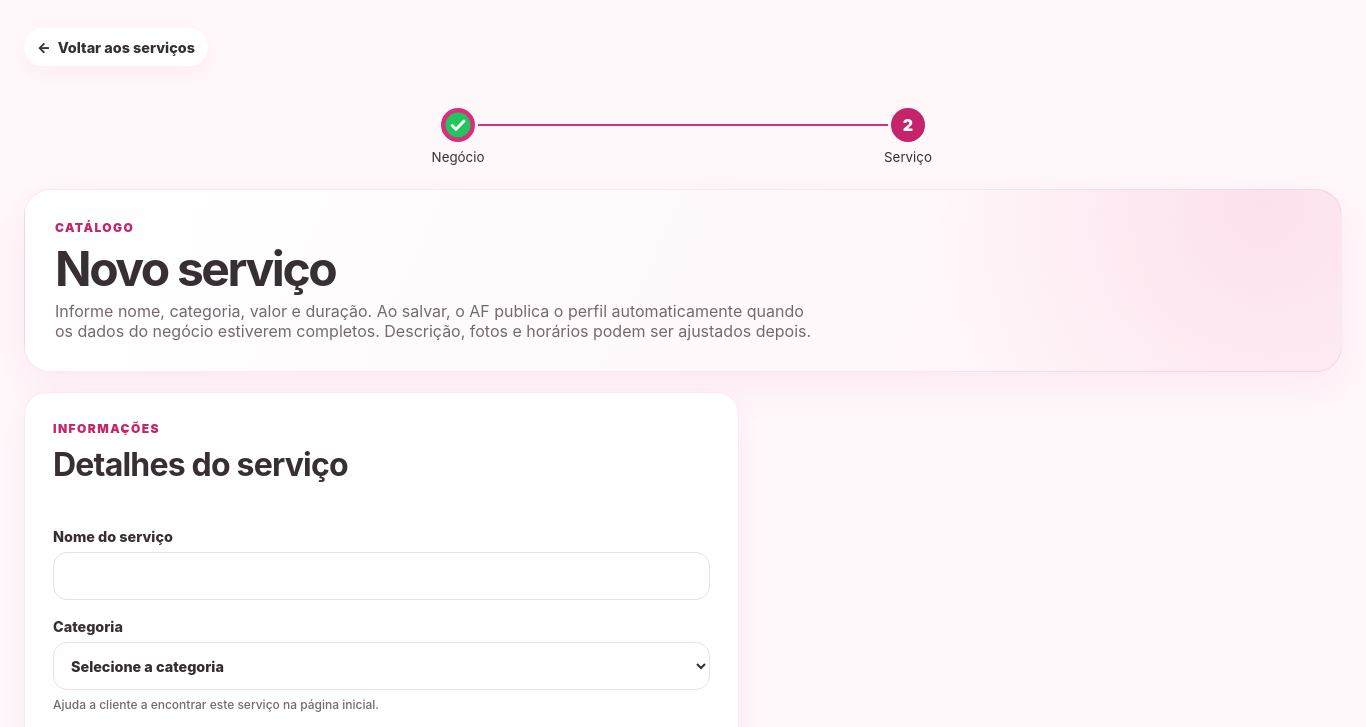
Scenario: cadastro recuperável depois de recarregar › recupera somente por GET com storage indisponível e onboarding=true
Type "Manicure" into the field labelled "Nome do serviço".
click(382, 576); type("Manicure")  # box [53,552,710,600]
(page scrolled)
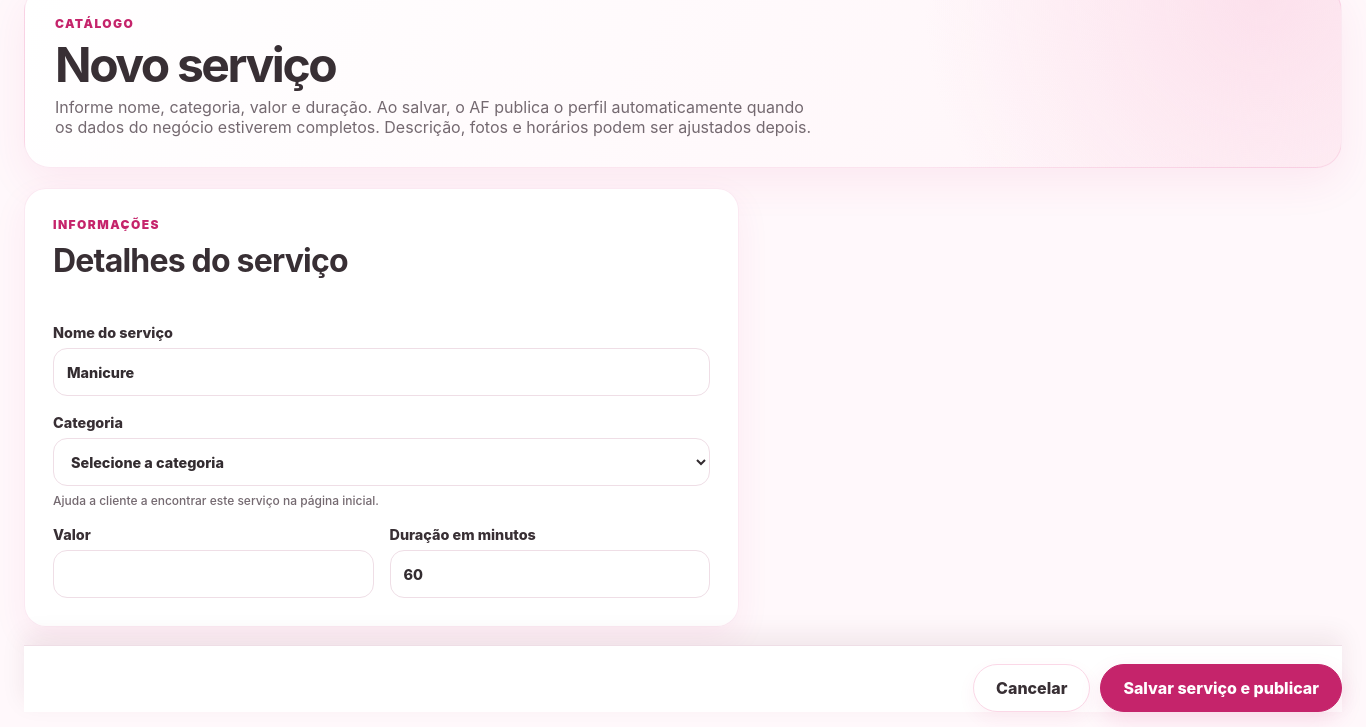
Type "50" into the number field labelled "Valor".
click(213, 574); type("50")  # box [53,550,374,598]
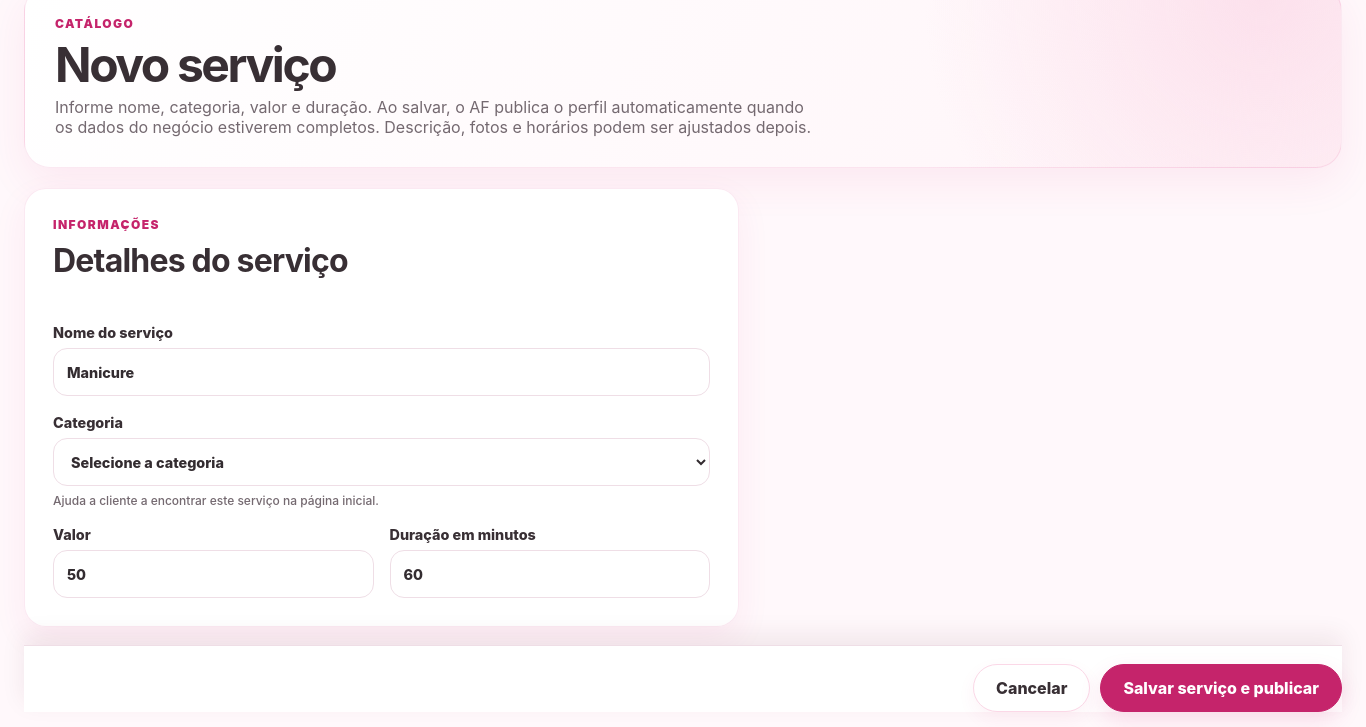
Select "Unhas" in the dropdown labelled "Categoria" at (382, 462), box [53,438,710,486]
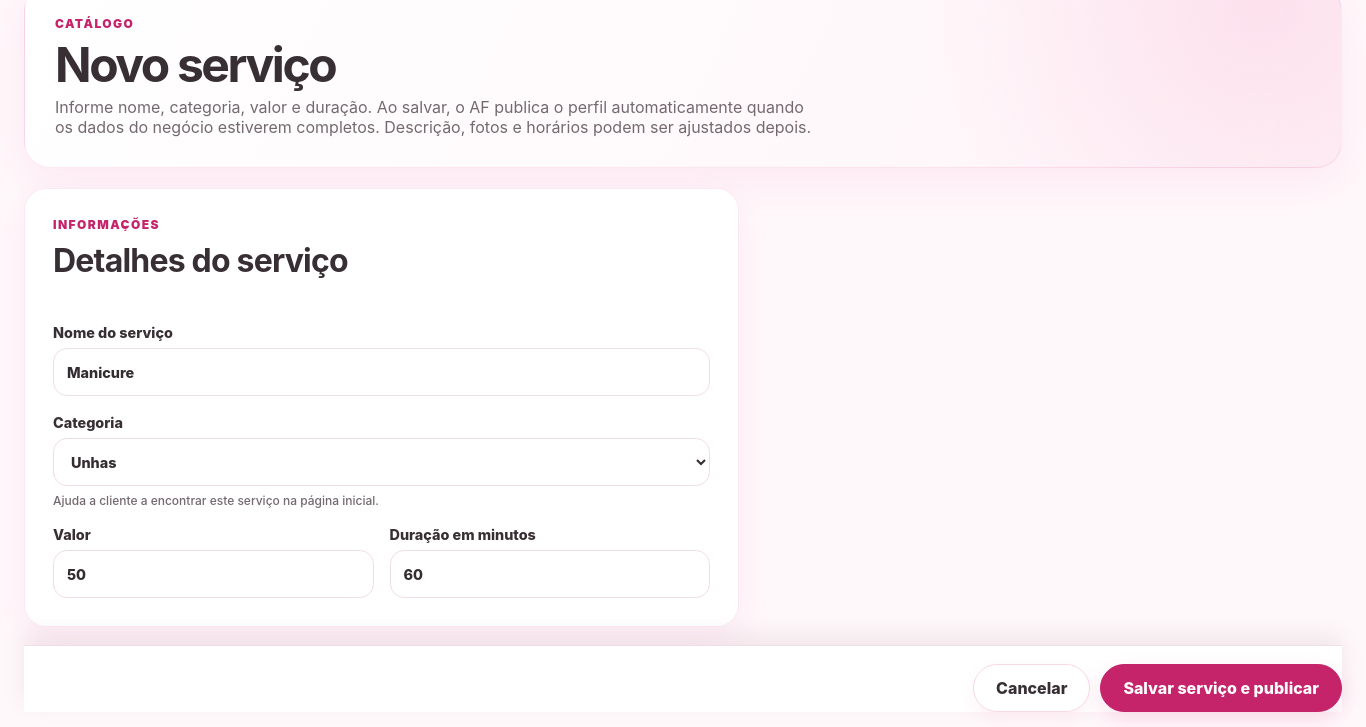
Click the button "Salvar serviço e publicar".
click(1221, 688)  # box [1100,664,1342,712]
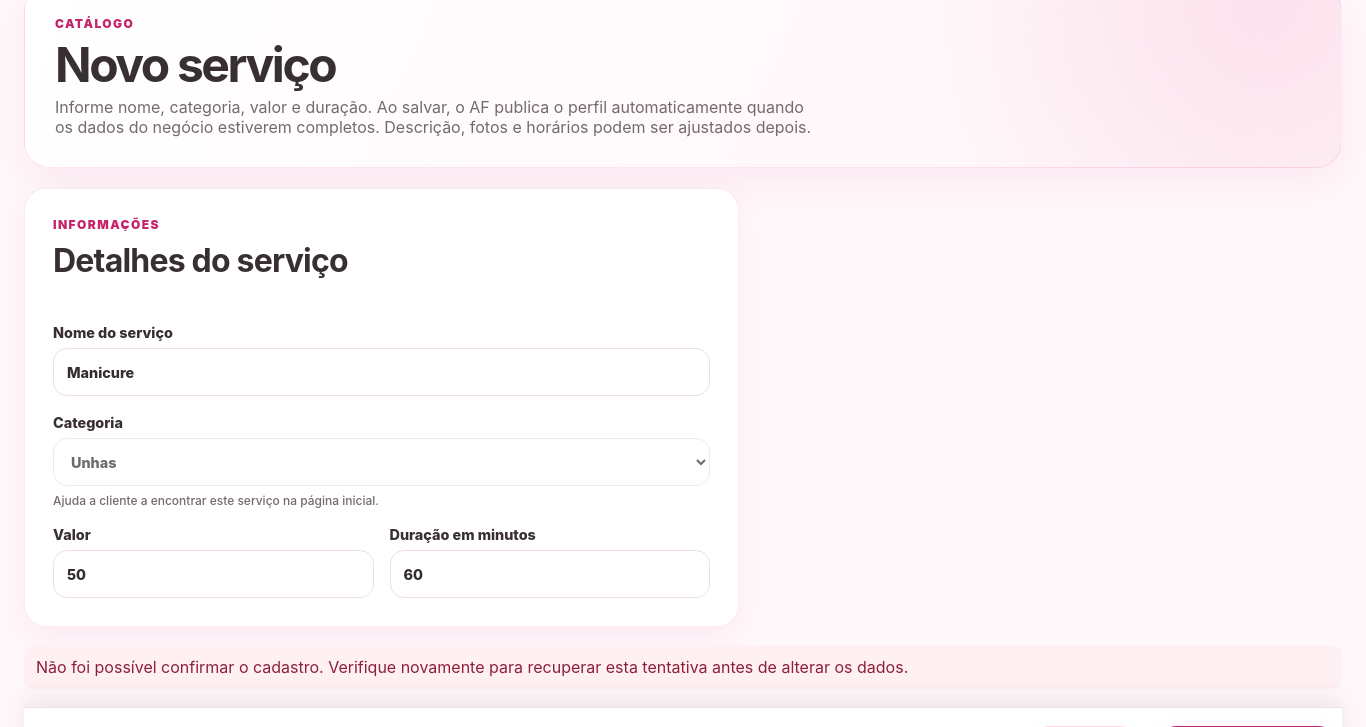
Expected: the text "Não foi possível confirmar o cadastro" is shown, [36,658,908,678]
